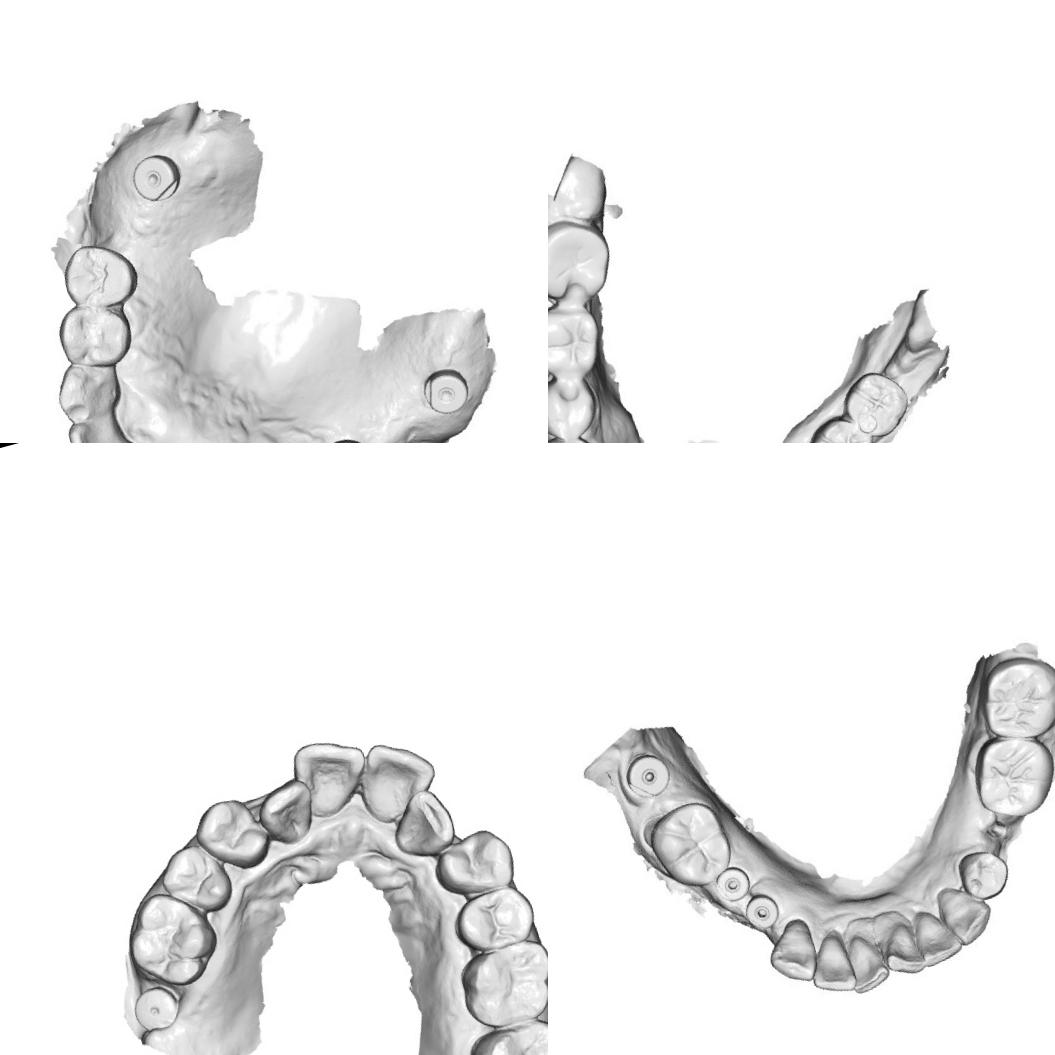canine: (758, 913, 826, 991), (934, 874, 1001, 950), (52, 358, 125, 418)
implant: (126, 144, 186, 209), (418, 357, 477, 421), (128, 978, 183, 1036), (622, 744, 675, 800), (737, 888, 784, 934), (710, 861, 753, 905)
incisor: (347, 728, 447, 826), (285, 728, 380, 827), (381, 782, 461, 863), (251, 774, 324, 852), (799, 926, 857, 1000), (906, 904, 962, 971), (877, 915, 925, 982), (841, 931, 891, 994), (65, 408, 128, 443)
molar: (117, 878, 230, 996), (449, 932, 548, 1036), (641, 792, 739, 895), (960, 723, 1055, 828), (976, 654, 1055, 743), (548, 210, 619, 309), (835, 361, 915, 443), (548, 296, 610, 386), (548, 370, 604, 443), (461, 1010, 548, 1055), (804, 407, 882, 443)
premolar: (185, 785, 272, 878), (426, 822, 522, 903), (54, 230, 145, 315), (446, 879, 540, 959), (152, 836, 238, 922), (50, 297, 134, 376), (953, 842, 1015, 906)
